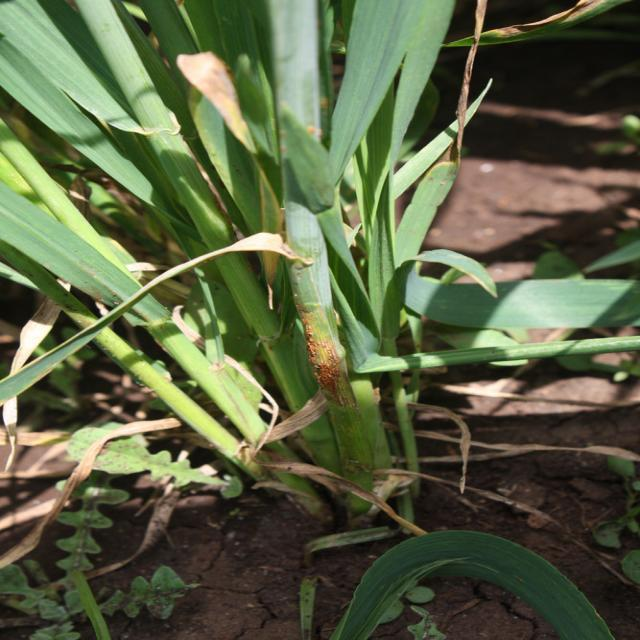Stem_Rust: (282, 305, 363, 411)
